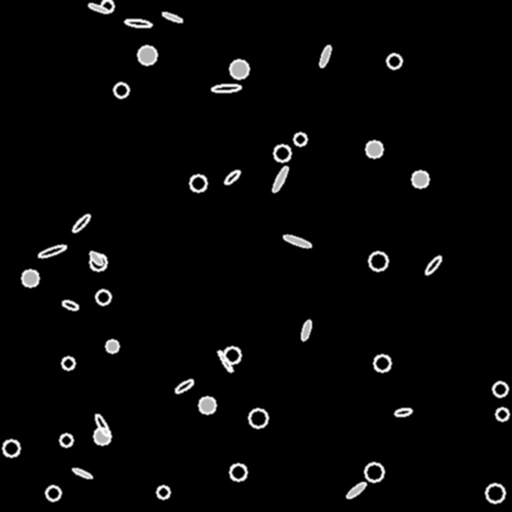pseudomonas: (271, 165, 289, 193), (70, 212, 92, 234), (283, 233, 311, 249), (38, 243, 66, 259), (423, 254, 443, 276), (345, 480, 367, 500), (93, 413, 111, 437), (217, 349, 233, 373), (223, 168, 241, 186), (174, 378, 194, 394), (318, 45, 332, 67), (71, 466, 93, 480), (124, 18, 152, 28), (161, 11, 183, 23), (88, 250, 104, 266), (300, 320, 312, 340), (88, 2, 108, 14), (212, 84, 240, 92), (61, 299, 79, 311), (395, 408, 411, 416)
synechocystis: (230, 60, 248, 78), (486, 484, 504, 502), (369, 252, 387, 270), (138, 46, 156, 64), (249, 409, 267, 427), (365, 463, 383, 481), (94, 428, 110, 444), (90, 254, 106, 270), (22, 270, 38, 286), (199, 397, 215, 413), (374, 355, 390, 371), (190, 175, 206, 191), (224, 347, 240, 363), (412, 171, 428, 187), (274, 145, 290, 161), (366, 141, 382, 157), (3, 440, 19, 456), (230, 464, 246, 480), (387, 54, 401, 68), (114, 83, 128, 97), (493, 382, 507, 396), (46, 486, 60, 500), (96, 290, 110, 304), (62, 357, 74, 369), (106, 340, 118, 352), (157, 486, 169, 498), (101, 0, 113, 12), (60, 434, 72, 446), (294, 133, 306, 145), (496, 408, 508, 420)
